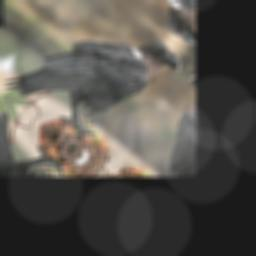Crow: (0, 0, 186, 166)
